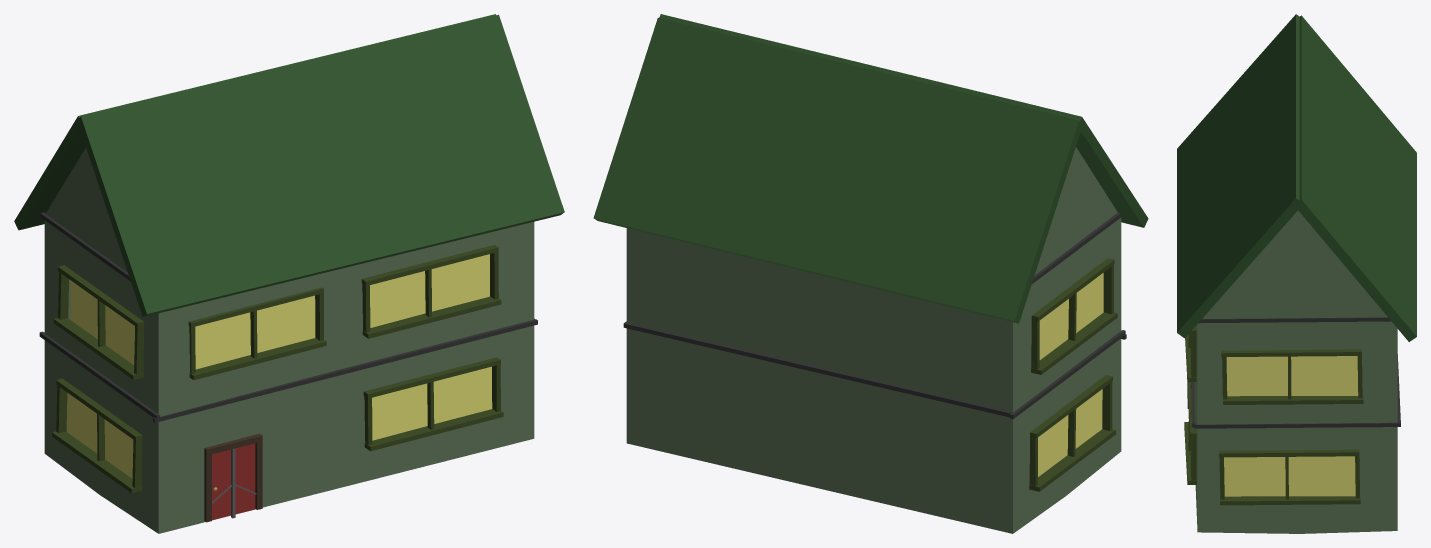
Rendered from House7.fbx.
3 renders of one model, left to right at view 1: azimuth 30°, elevation 25°; view 2: azimuth 150°, elevation 25°; view 3: azimuth 270°, elevation 25°, orthographic. The views are drawn at different scales.
Visible parts, largest first — view 1: Cube.005, Cube.001, Cube.058, Cube.055, Cube.054, Cube.004, Cube.009, Cube.043, Cube.012, Cube.042, Cube.050, Cube.045 (+10 smaller); view 2: Cube.001, Cube.004, Cube.005, Cube.015, Cube.042, Cube.043, Cube.020, Cube.032, Cube.031, Cube.019, Cube.016, Cube.017; view 3: Cube.001, Cube.005, Cube.004, Cube.040, Cube.041, Cube.024, Cube.028, Cube.023, Cube.027, Cube.014, Cube.018, Cube.045 (+1 smaller).
Boxes of the visible parts, x1=… form: Cube.005: x1=77, y1=14, x2=564, y2=316; Cube.001: x1=44, y1=148, x2=534, y2=533; Cube.058: x1=195, y1=295, x2=315, y2=369; Cube.055: x1=372, y1=366, x2=492, y2=440; Cube.054: x1=370, y1=254, x2=489, y2=327; Cube.004: x1=14, y1=14, x2=495, y2=230; Cube.009: x1=212, y1=443, x2=255, y2=519; Cube.043: x1=66, y1=393, x2=133, y2=478; Cube.012: x1=153, y1=319, x2=537, y2=422; Cube.042: x1=70, y1=280, x2=134, y2=365; Cube.050: x1=362, y1=296, x2=501, y2=338; Cube.045: x1=364, y1=409, x2=503, y2=451; Cube.001: x1=626, y1=147, x2=1121, y2=533; Cube.004: x1=593, y1=18, x2=1081, y2=323; Cube.005: x1=659, y1=14, x2=1148, y2=227; Cube.015: x1=624, y1=322, x2=1011, y2=417; Cube.042: x1=1039, y1=273, x2=1103, y2=359; Cube.043: x1=1038, y1=389, x2=1102, y2=476; Cube.020: x1=1029, y1=429, x2=1115, y2=491; Cube.032: x1=1031, y1=312, x2=1117, y2=374; Cube.031: x1=1031, y1=258, x2=1114, y2=321; Cube.019: x1=1030, y1=375, x2=1112, y2=438; Cube.016: x1=1010, y1=330, x2=1125, y2=419; Cube.017: x1=1031, y1=212, x2=1122, y2=284; Cube.001: x1=1194, y1=210, x2=1397, y2=533; Cube.005: x1=1177, y1=14, x2=1299, y2=338; Cube.004: x1=1294, y1=15, x2=1416, y2=341; Cube.040: x1=1224, y1=456, x2=1355, y2=496; Cube.041: x1=1226, y1=356, x2=1358, y2=396; Cube.024: x1=1220, y1=496, x2=1360, y2=505; Cube.028: x1=1223, y1=396, x2=1363, y2=404; Cube.023: x1=1219, y1=449, x2=1359, y2=457; Cube.027: x1=1221, y1=349, x2=1361, y2=356; Cube.014: x1=1194, y1=422, x2=1400, y2=428; Cube.018: x1=1198, y1=317, x2=1391, y2=323; Cube.045: x1=1184, y1=422, x2=1196, y2=484.
Size of the model in its own units: 1401 by 1224 by 771.
